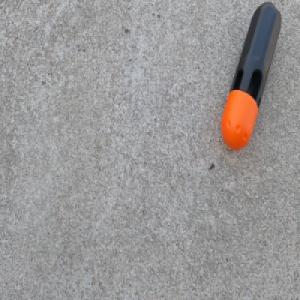PlasticPart: (220, 0, 283, 152)
